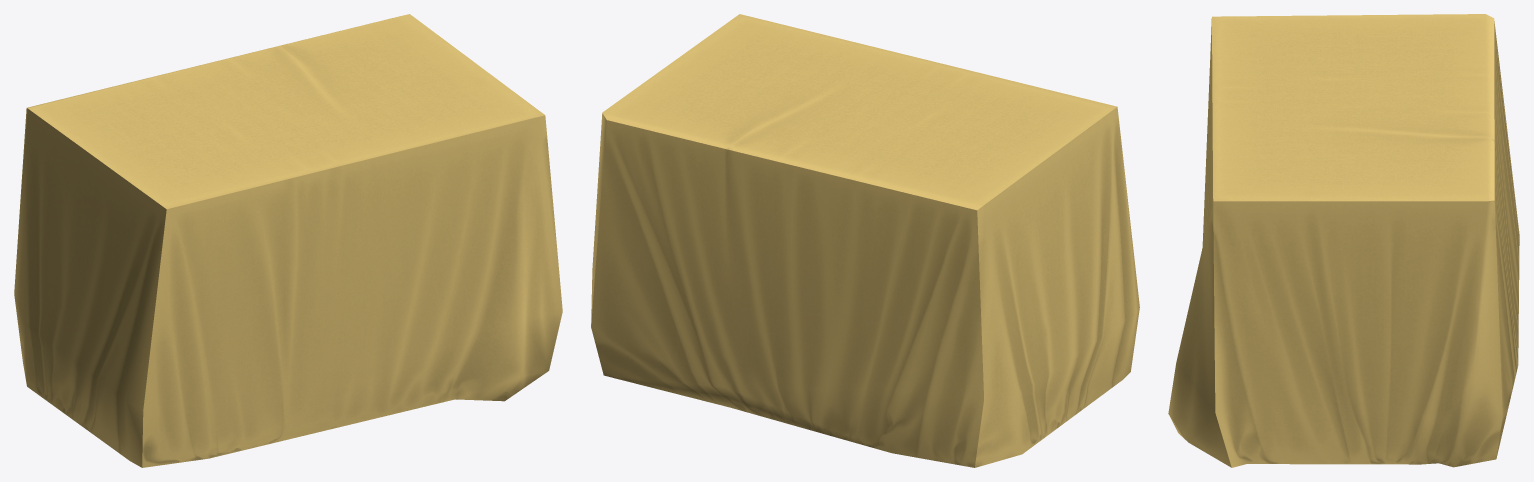
The model's file is Pfb_Box_GRP__13.fbx.
3 renders of one model, left to right at view 1: azimuth 30°, elevation 25°; view 2: azimuth 150°, elevation 25°; view 3: azimuth 270°, elevation 25°, orthographic.
Parts seen in each view (by area): view 1: MAT_Canvas_02_Yellow; view 2: MAT_Canvas_02_Yellow; view 3: MAT_Canvas_02_Yellow.
Part boxes in pixels (left/top/right/bottom): MAT_Canvas_02_Yellow: left=14, top=14, right=562, bottom=467; MAT_Canvas_02_Yellow: left=591, top=14, right=1139, bottom=467; MAT_Canvas_02_Yellow: left=1168, top=14, right=1519, bottom=467.
Size of the model in its own units: 2.65 by 1.54 by 1.88.
1 material, 1 textured.
